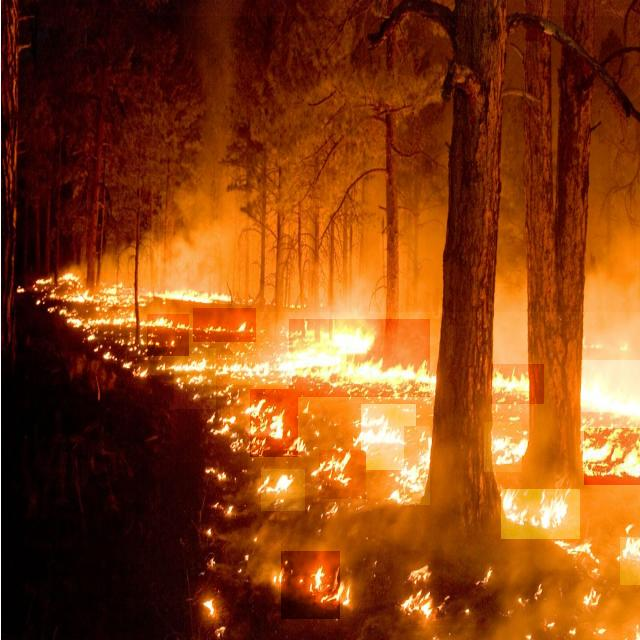Fire: (289, 319, 430, 397), (45, 272, 138, 333), (281, 551, 340, 619), (501, 489, 580, 539), (361, 404, 416, 470), (250, 389, 298, 457), (584, 428, 640, 485), (581, 360, 640, 412), (404, 550, 444, 625), (174, 348, 216, 409), (319, 450, 366, 499), (193, 308, 256, 342), (491, 364, 544, 404), (404, 426, 430, 505), (226, 355, 292, 385), (484, 422, 522, 472), (262, 469, 306, 511), (147, 314, 189, 356), (620, 537, 640, 585)
Smoke: (160, 16, 640, 312)
